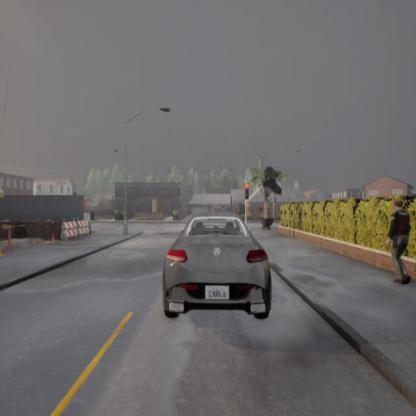person: (384, 198, 412, 284)
vehicle: (160, 213, 272, 319)
